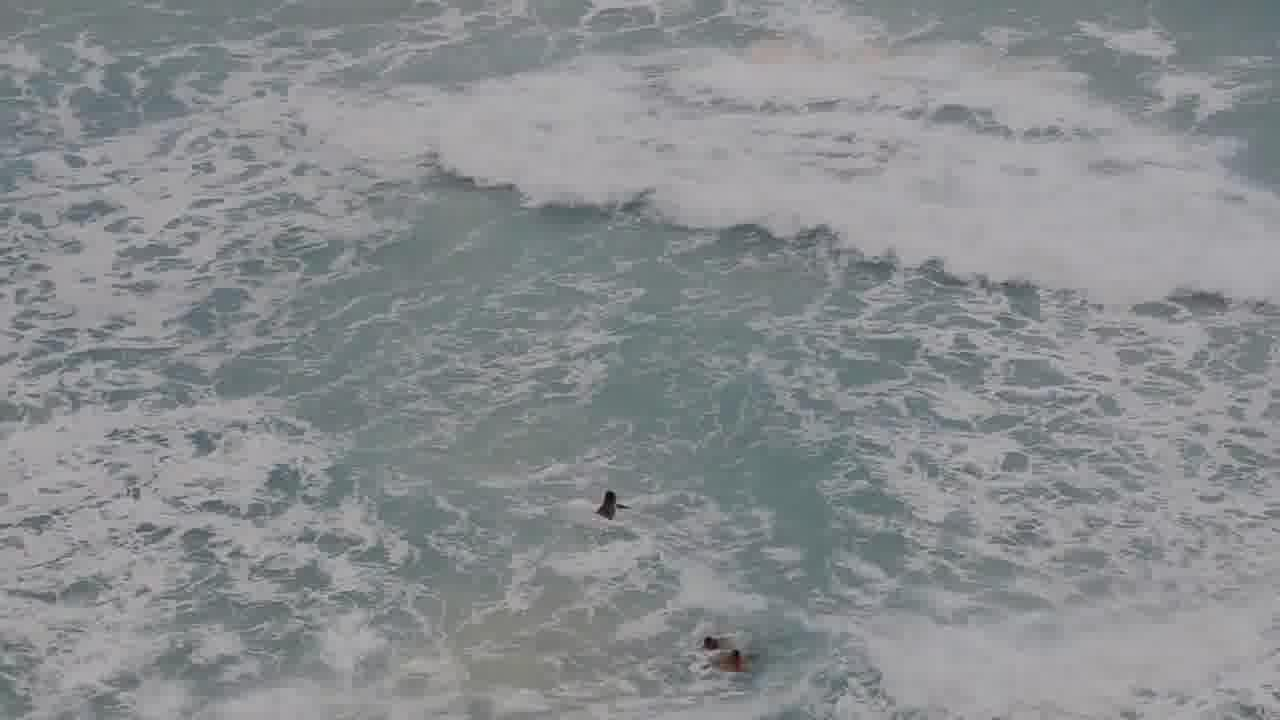human: (579, 478, 640, 523), (709, 638, 758, 681), (687, 621, 738, 652)
